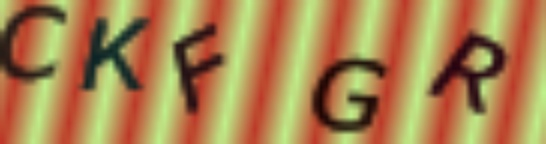C: (1, 2, 72, 80)
F: (170, 21, 225, 117)
G: (307, 56, 387, 133)
K: (74, 12, 153, 94)
R: (427, 27, 511, 120)
